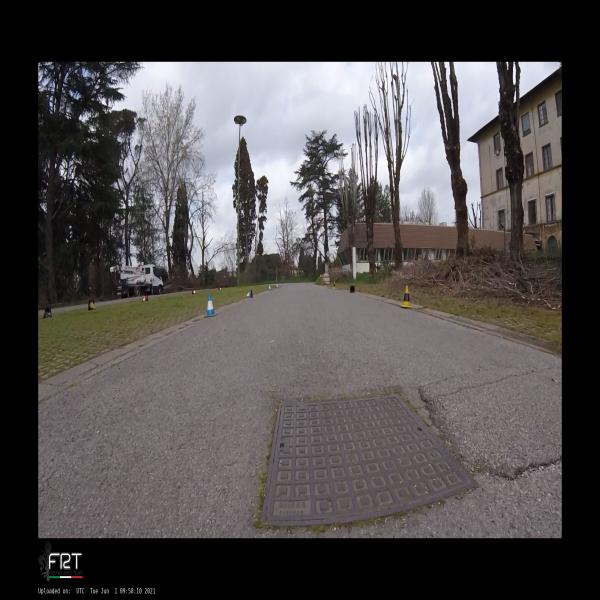blue_cone: (204, 293, 217, 317), (245, 290, 253, 298), (268, 284, 271, 291), (276, 283, 278, 288)
orange_cone: (142, 294, 148, 301), (192, 289, 196, 294), (218, 286, 222, 290)
unknown_cone: (42, 306, 52, 319), (88, 300, 96, 310), (350, 285, 355, 293)
yellow_cone: (401, 285, 412, 307), (333, 281, 336, 289)
